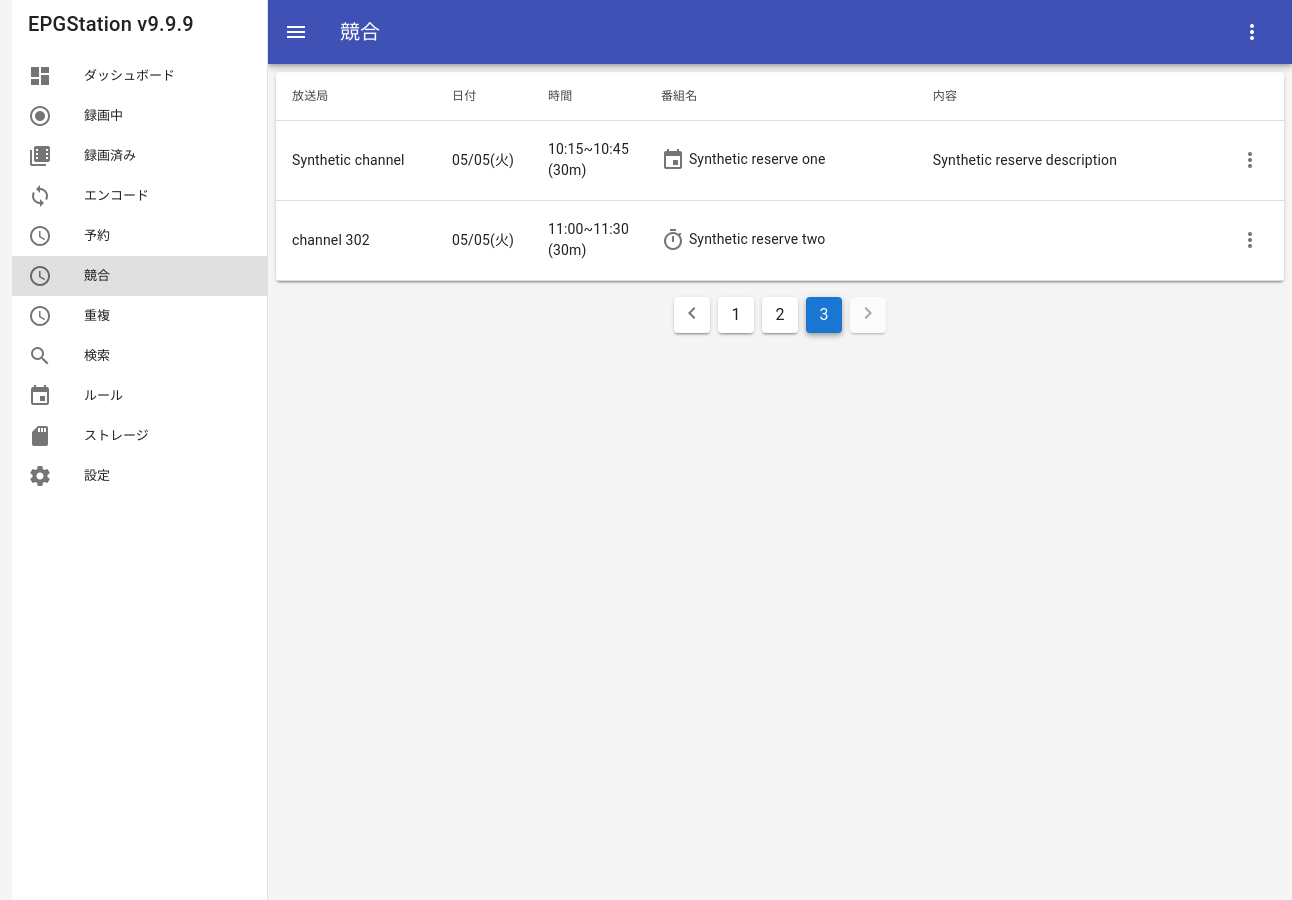
Test: Reserves delete, unlock and update actions › [AC 2.24] closes the title bar menu when it is dismissed without selecting an action
Expected: the text "Synthetic reserve one" is shown, [689,151,826,167]
Click the button named "予約メニュー": [1252, 32] box [1228,8,1276,56]
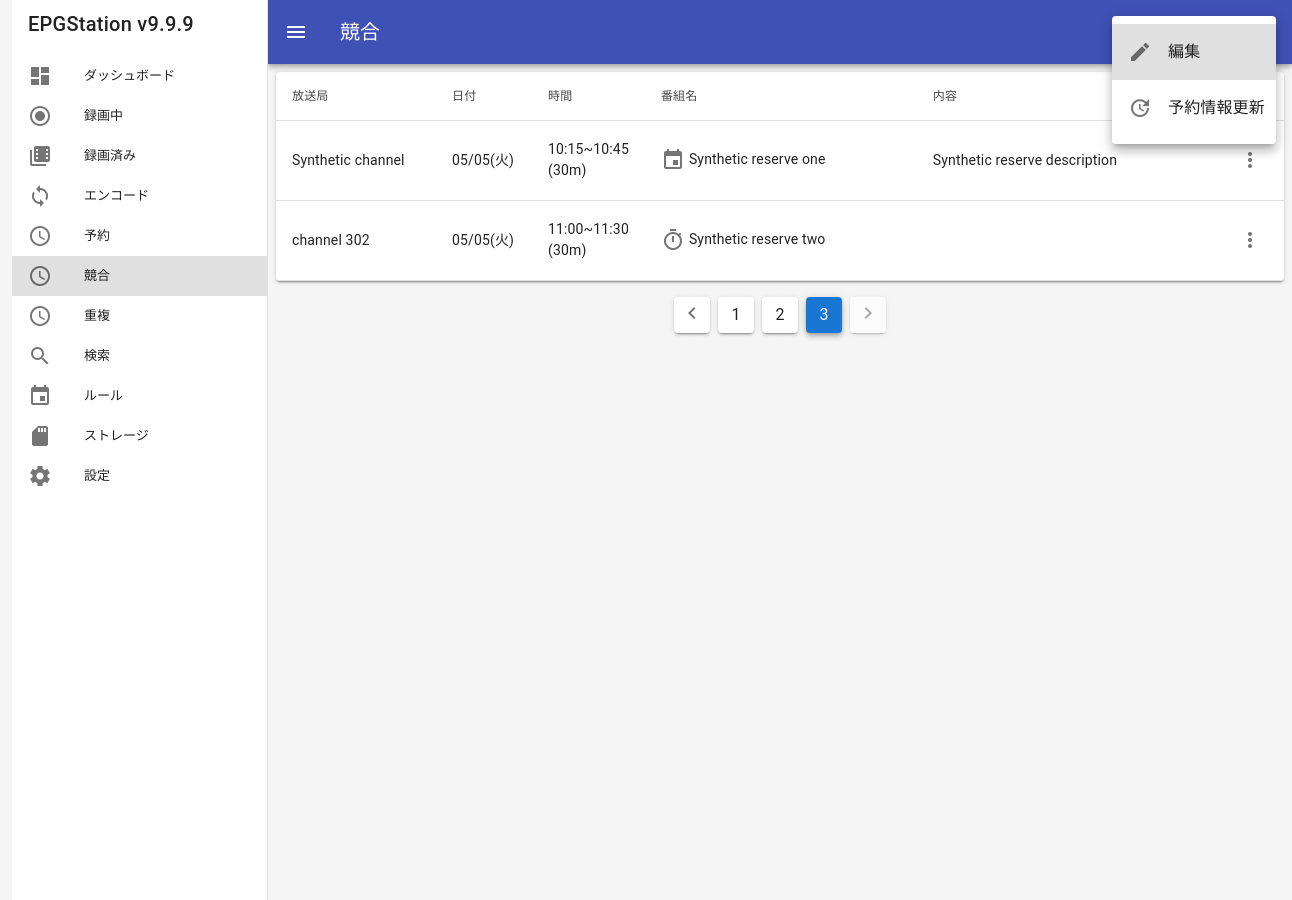
Result: the menu item "編集" is shown at [1112,24,1276,80]
Press Escape in the menu, box [1112,16,1276,144]
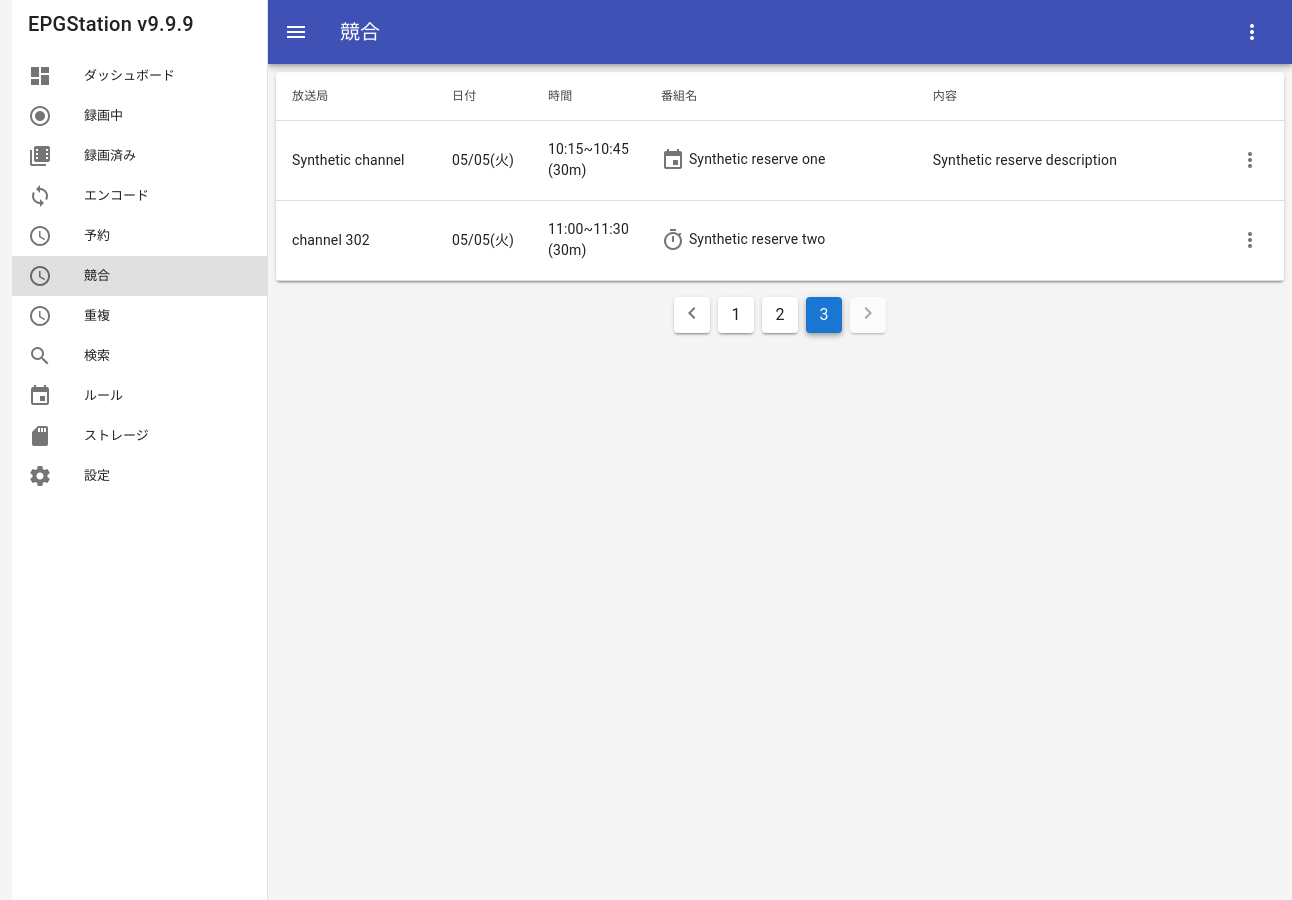
Result: the menu item "編集" is gone
